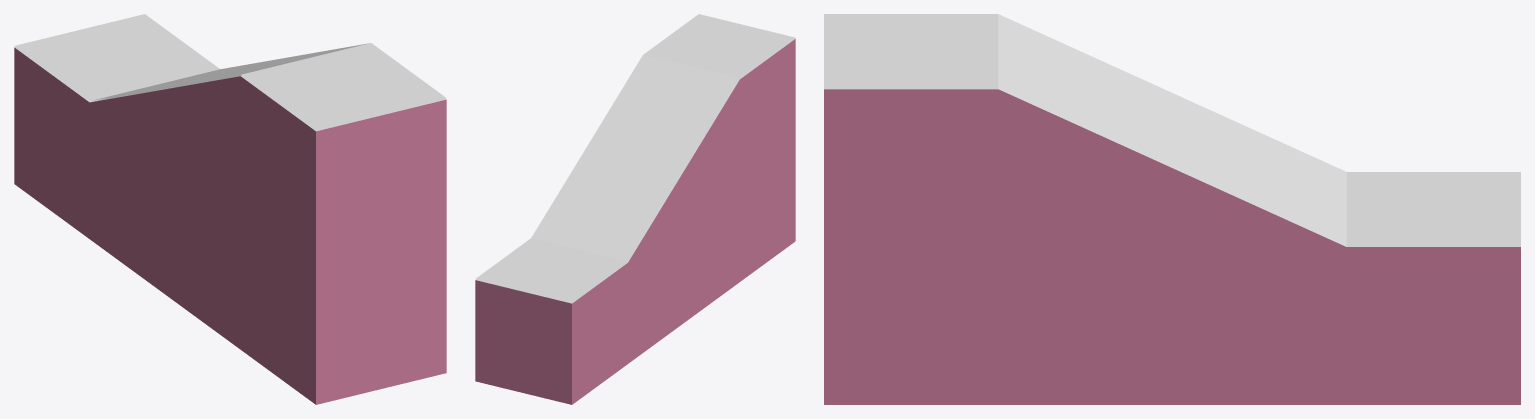
Rendered from slopeTest.glb.
3 views of the same model, side by side, from view 1: azimuth 30°, elevation 25°; view 2: azimuth 150°, elevation 25°; view 3: azimuth 270°, elevation 25° (orthographic). The views are drawn at different scales.
Parts seen in each view (by area): view 1: Terrain, Tile.001, Tile.002, Tile.003, Tile; view 2: Terrain, Tile, Tile.003, Tile.001, Tile.002; view 3: Terrain, Tile.003, Tile, Tile.001, Tile.002.
Part boxes in pixels (<box>): Terrain: <box>14,47,446,404</box>; Tile.001: <box>241,43,446,129</box>; Tile.002: <box>14,14,219,100</box>; Tile.003: <box>92,56,293,100</box>; Tile: <box>167,43,368,87</box>; Terrain: <box>475,38,795,404</box>; Tile: <box>587,55,739,169</box>; Tile.003: <box>531,146,683,261</box>; Tile.001: <box>643,14,795,78</box>; Tile.002: <box>476,238,627,302</box>; Terrain: <box>824,87,1520,404</box>; Tile.003: <box>1172,93,1346,245</box>; Tile: <box>998,14,1172,166</box>; Tile.001: <box>824,14,998,87</box>; Tile.002: <box>1346,172,1520,245</box>.
Size of the model in its own units: 1 by 2.01 by 4.
